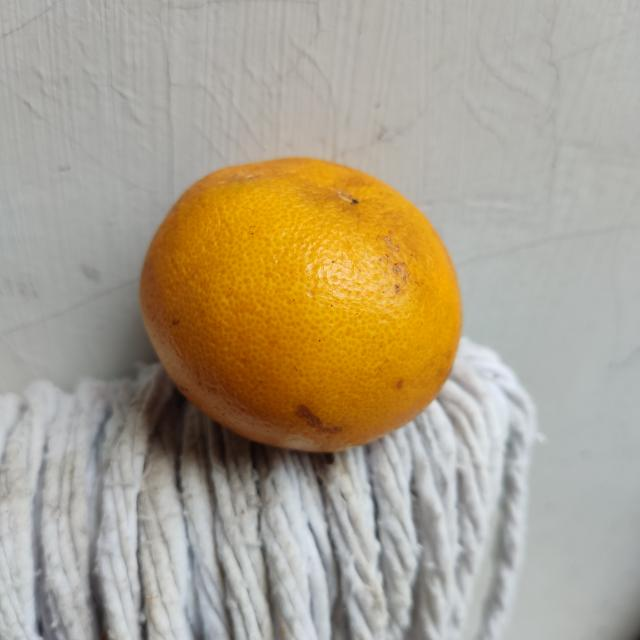orange: (126, 153, 467, 458)
